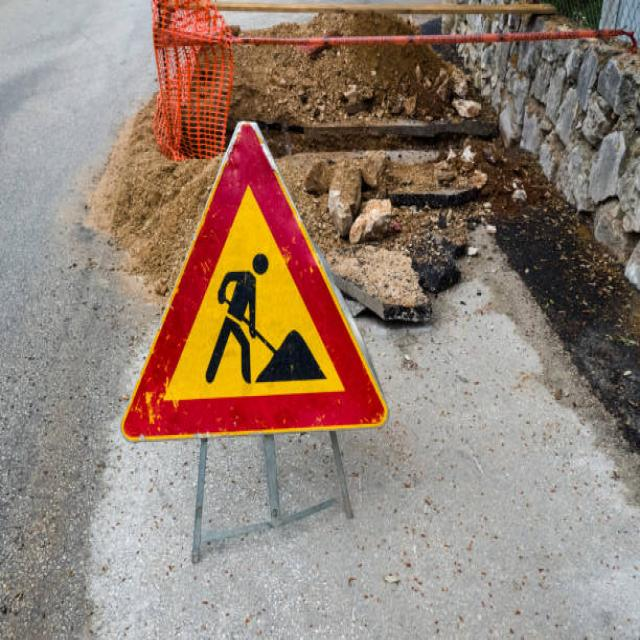road_work: (119, 120, 396, 442)
